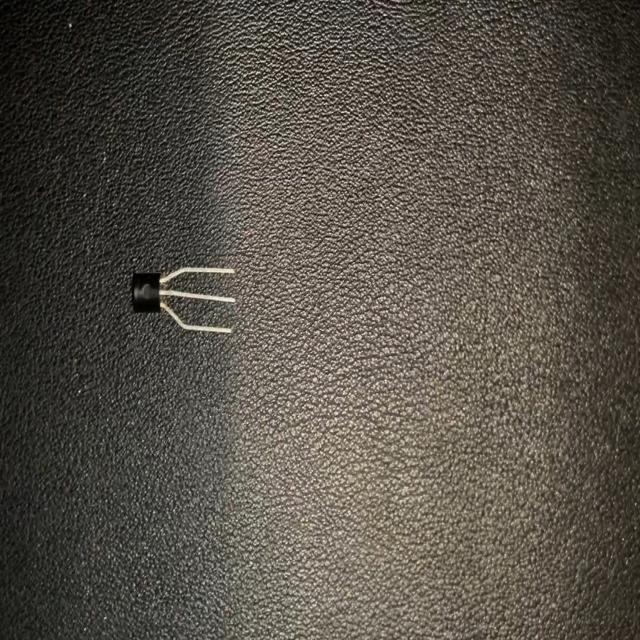BJT: (130, 256, 236, 339)
